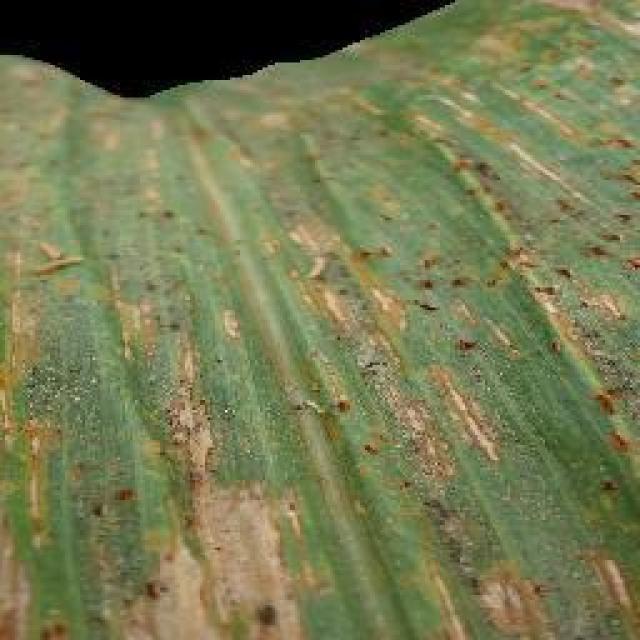Corn Common Rust: (205, 257, 517, 585)
